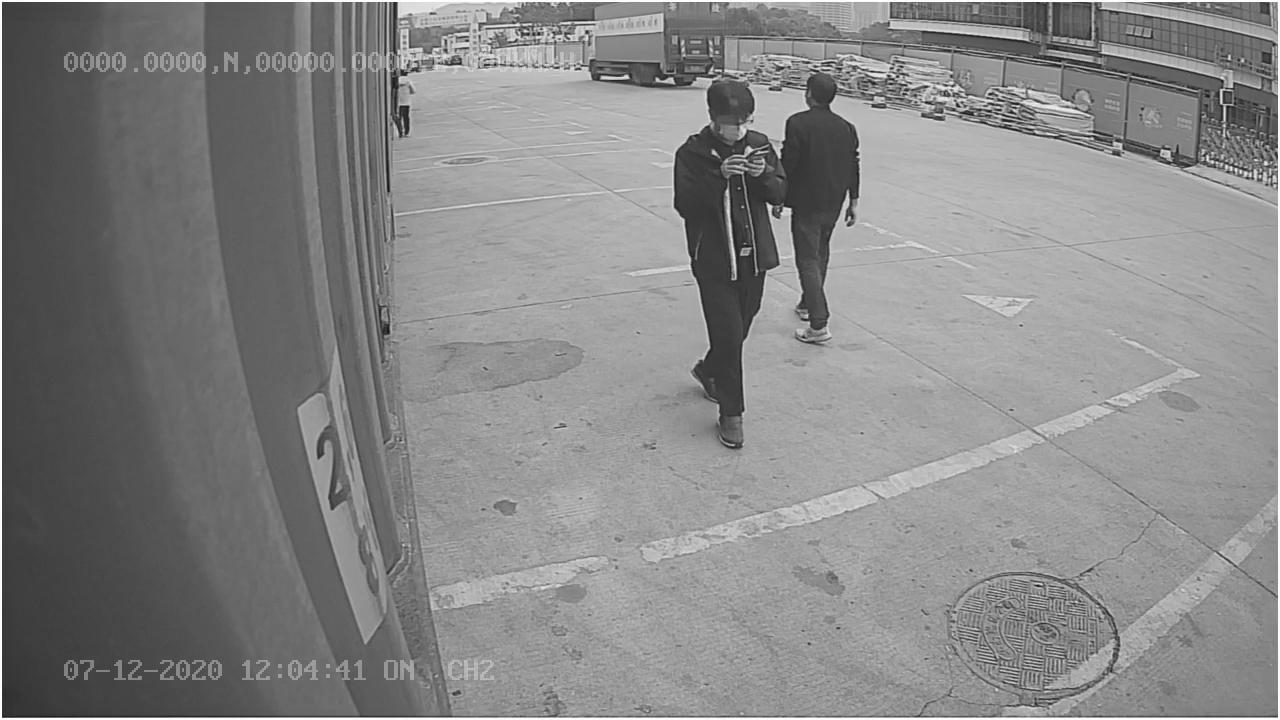person: (669, 79, 786, 456)
